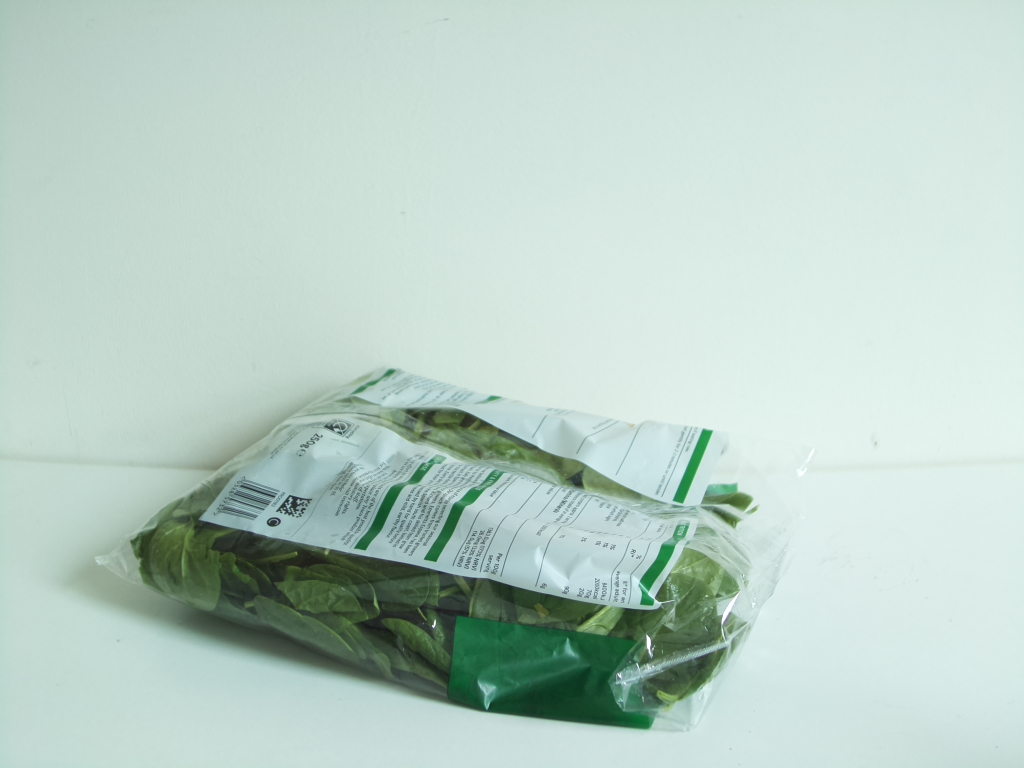salad: (133, 363, 768, 733)
